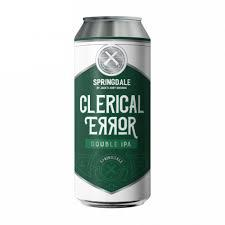beer: (72, 17, 152, 208)
